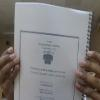notebook: (12, 1, 93, 99)
